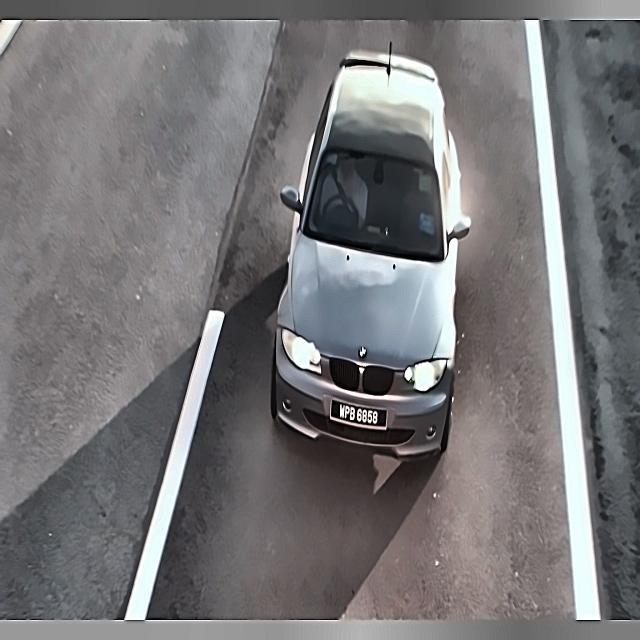car: (332, 397, 383, 434)
